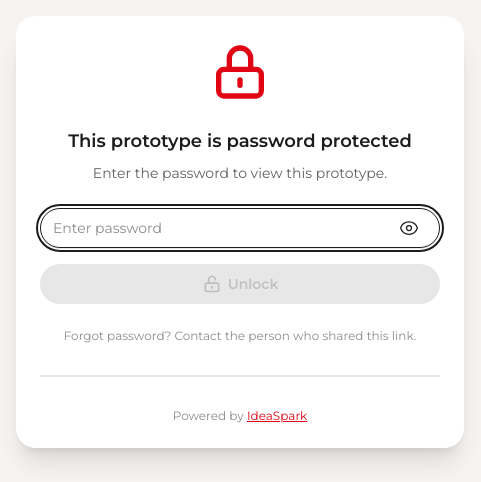
Scenario: PasswordProtectedViewer › should show loading state while verifying
The width and height of the screenshot is (481, 482).
Type "password123" into the password field with test id "verify-password-input" at (240, 228), box top-left (40, 208), bottom-right (440, 248)
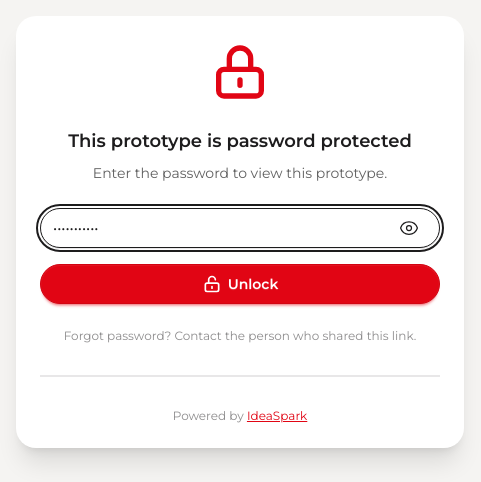
Click the button "Unlock" at (240, 284), box top-left (40, 264), bottom-right (440, 304)
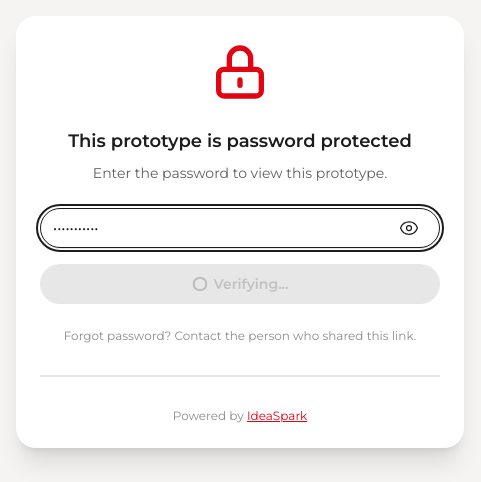
Check: the button "Verifying..." is shown, box top-left (40, 264), bottom-right (440, 304)
